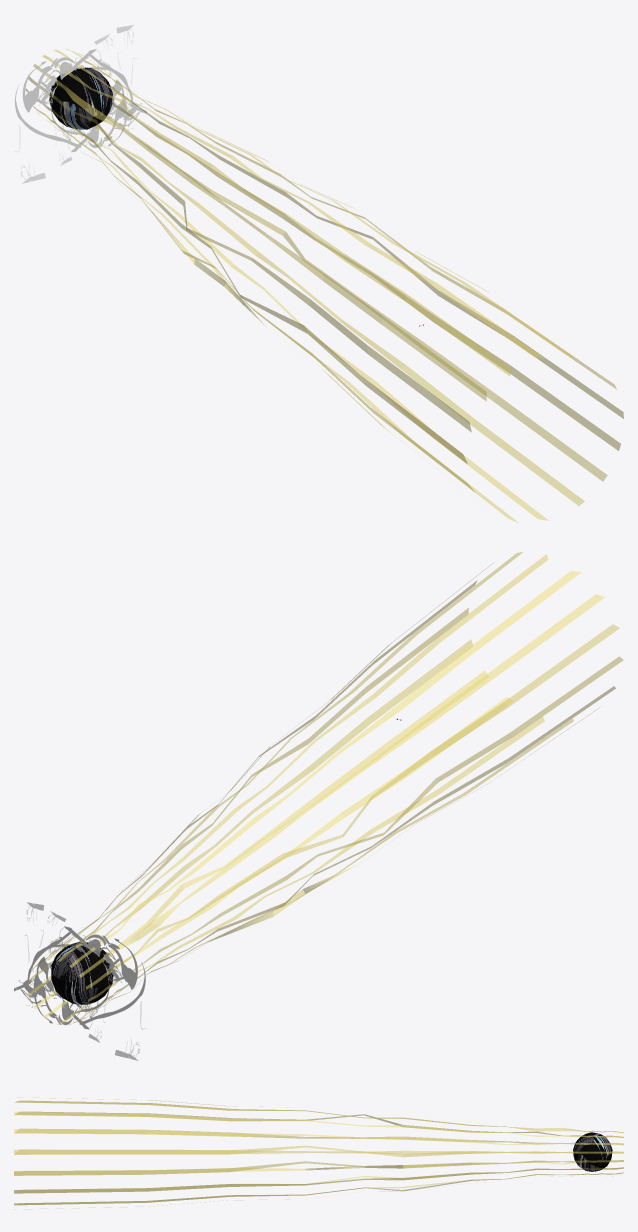
The model's file is env.glb.
The picture shows the model from 3 angles, top to bottom: view 1: azimuth 30°, elevation 25°; view 2: azimuth 150°, elevation 25°; view 3: azimuth 270°, elevation 25°; orthographic projection. The views are drawn at different scales.
Parts seen in each view (by area): view 1: tunnel_R, galaxy_R, planet_R; view 2: tunnel_R, galaxy_R, planet_R; view 3: tunnel_R, planet_R.
Boxes of the visible parts, x1,y1,x2,y2 form: tunnel_R: [25, 48, 623, 522]; galaxy_R: [14, 25, 146, 183]; planet_R: [49, 66, 113, 129]; tunnel_R: [27, 552, 623, 1025]; galaxy_R: [14, 902, 145, 1060]; planet_R: [51, 941, 113, 1004]; tunnel_R: [14, 1097, 623, 1209]; planet_R: [573, 1132, 612, 1171].
Bounding box in the file's own units: 8.53 × 8.52 × 46.35.
Materials: 6 (4 with a texture image).
